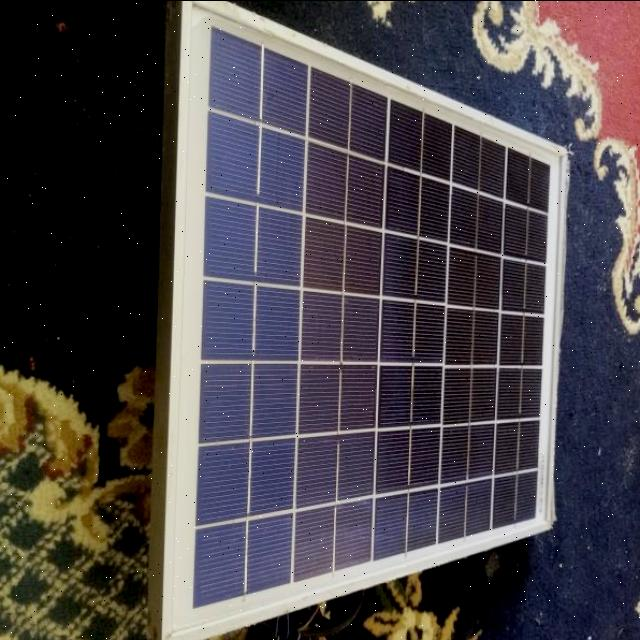Normal Solar Panel: (166, 0, 564, 640)
